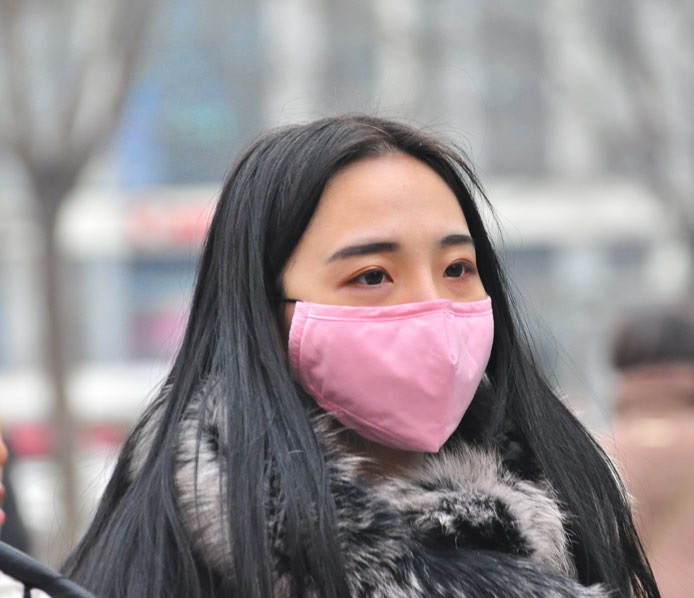face_mask: (285, 156, 494, 454)
